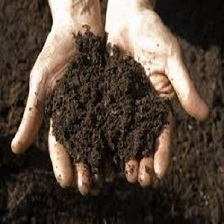loamy_soil: (44, 32, 181, 167)
